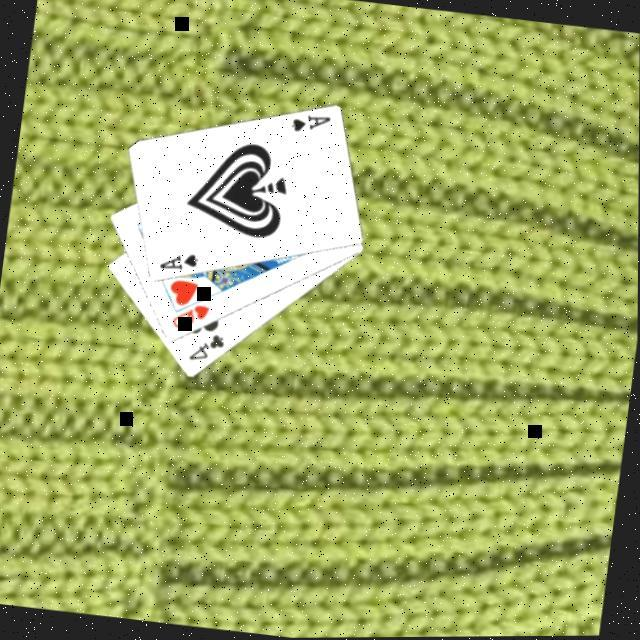4C: (187, 326, 231, 365)
AS: (288, 107, 336, 137), (157, 246, 204, 275)
QH: (170, 296, 216, 333)
